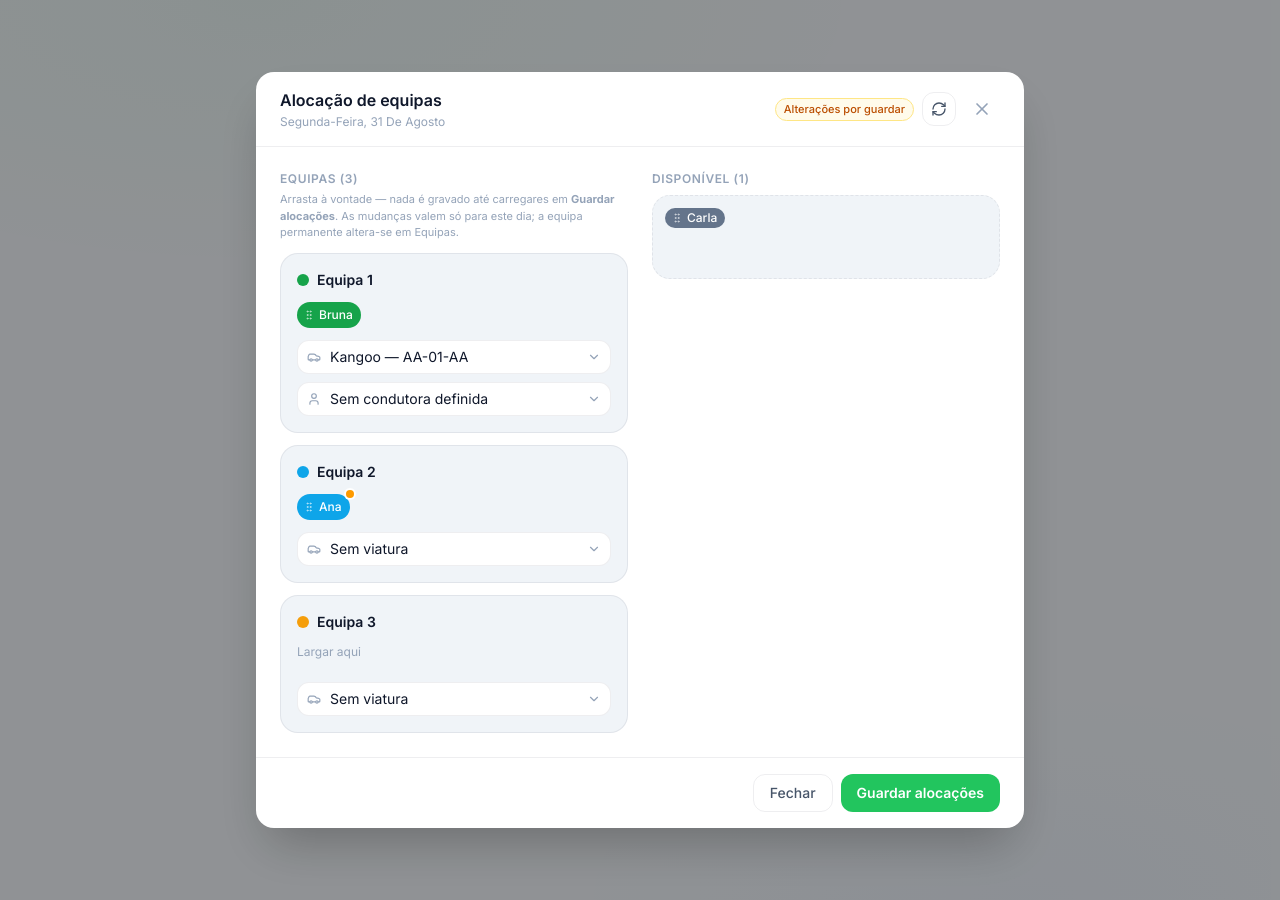
Test: 🔴 conflito de concorrência no ecrã › a mensagem explica, e o rascunho NÃO se perde
Click the button "Guardar alocações" at x=920, y=793, box [841,774,1000,812]
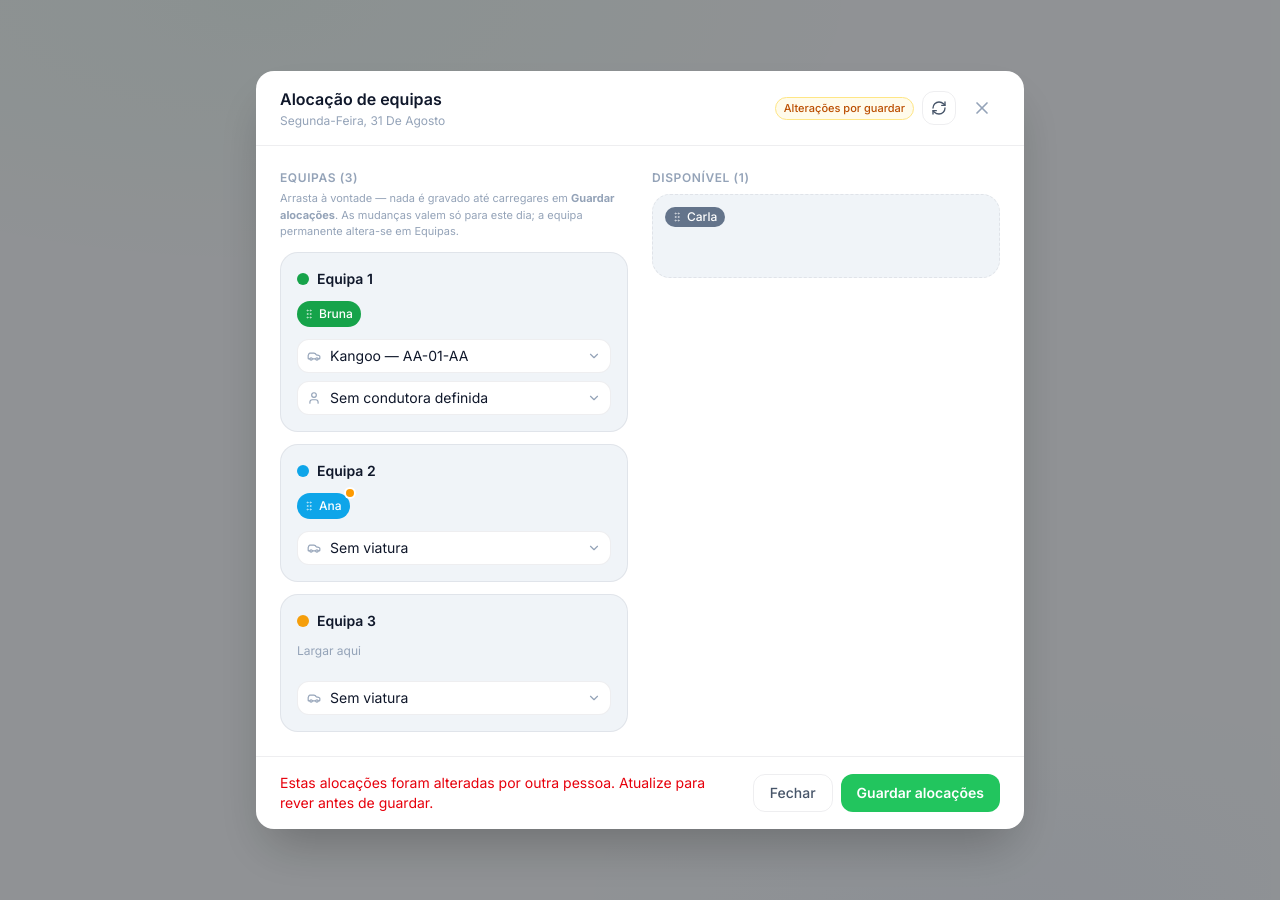
expect the text with test id "mensagem" shows "alteradas por outra pessoa": met, box [280,774,705,811]
